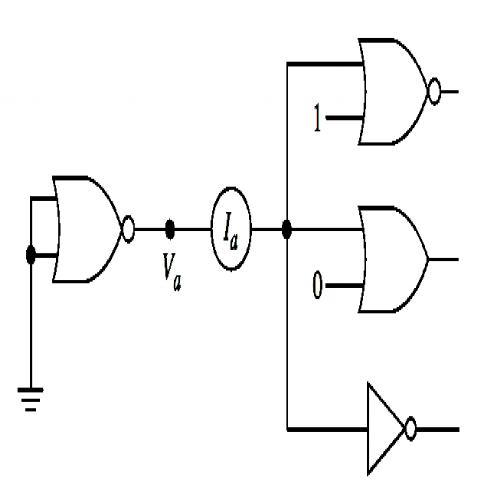nor: (46, 168, 140, 295), (353, 30, 445, 155)
not: (360, 372, 421, 480)
or: (353, 200, 433, 321)
